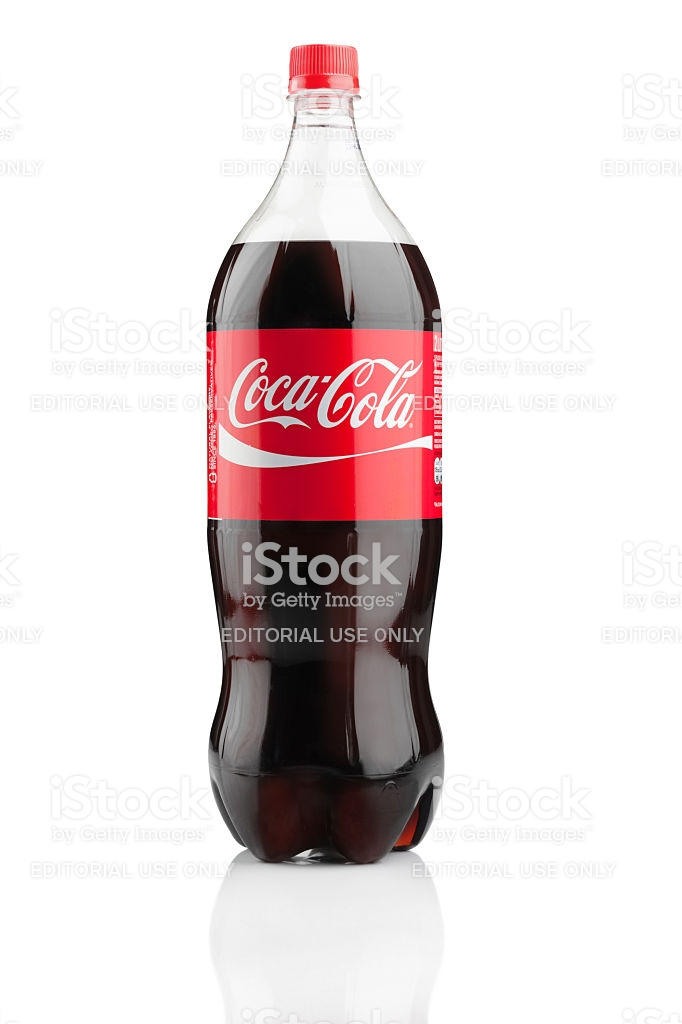Coca-Cola: (163, 38, 588, 887)
